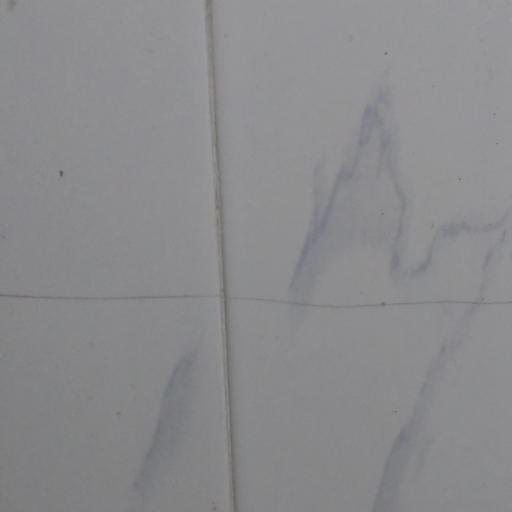minor_crack: (0, 267, 512, 320)
